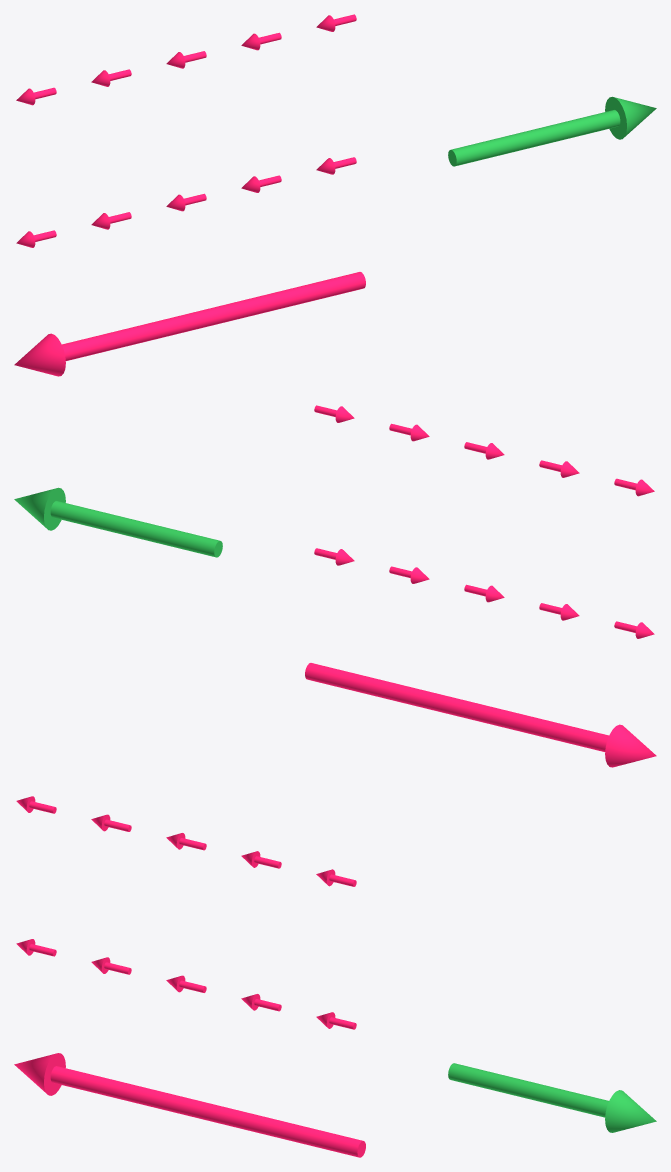
Rendered from boiler_feedwater_pump_thrust.glb.
3 views of the same model, one above another, from view 1: azimuth 30°, elevation 25°; view 2: azimuth 150°, elevation 25°; view 3: azimuth 330°, elevation 25° (orthographic).
Parts seen in each view (by area): view 1: thrust_arrows, counter_arrows; view 2: thrust_arrows, counter_arrows; view 3: thrust_arrows, counter_arrows.
Part boxes in pixels (x1,y1,x2,y2): thrust_arrows: [14, 14, 365, 376]; counter_arrows: [448, 96, 656, 166]; thrust_arrows: [305, 405, 656, 767]; counter_arrows: [14, 487, 222, 557]; thrust_arrows: [14, 796, 365, 1157]; counter_arrows: [448, 1063, 656, 1132].
Bounding box in the file's own units: 0.943 × 0.409 × 0.056.
